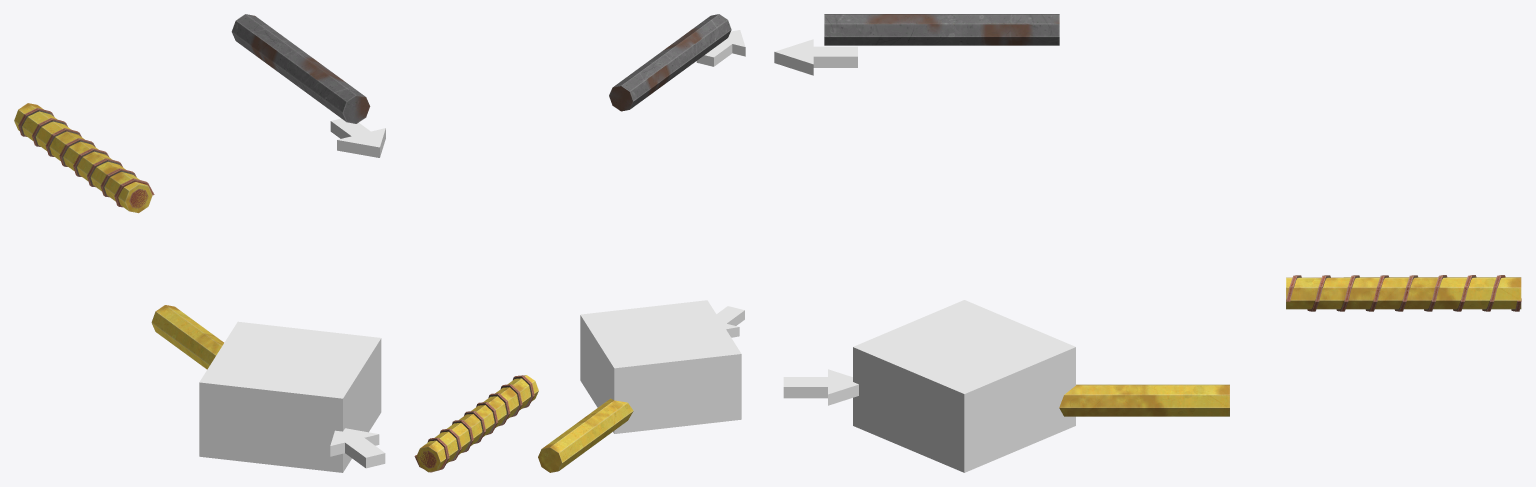
The model's file is ThreadingLathe.glb.
3 renders of one model, left to right at view 1: azimuth 30°, elevation 25°; view 2: azimuth 150°, elevation 25°; view 3: azimuth 270°, elevation 25°, orthographic. The views are drawn at different scales.
Visible parts, largest first — view 1: MachineTrigger, IronRod, WholePart, RodRenderer, spinningparent, ghostarrow, ghostarrow (1); view 2: MachineTrigger, IronRod, WholePart, RodRenderer, spinningparent, ghostarrow (1), ghostarrow; view 3: MachineTrigger, IronRod, WholePart, RodRenderer, ghostarrow (1), ghostarrow, spinningparent.
Part boxes in pixels (box(x1,y1,x2,y2)): MachineTrigger: box(199, 321, 381, 472); IronRod: box(231, 14, 370, 123); WholePart: box(14, 103, 152, 213); RodRenderer: box(151, 305, 223, 369); spinningparent: box(18, 108, 154, 208); ghostarrow: box(330, 428, 385, 468); ghostarrow (1): box(330, 118, 385, 157); MachineTrigger: box(580, 300, 741, 433); IronRod: box(609, 14, 731, 111); WholePart: box(416, 375, 538, 472); RodRenderer: box(538, 398, 633, 472); spinningparent: box(414, 375, 534, 472); ghostarrow (1): box(696, 30, 745, 66); ghostarrow: box(716, 306, 744, 337); MachineTrigger: box(853, 300, 1075, 472); IronRod: box(824, 14, 1059, 45); WholePart: box(1286, 277, 1521, 309); RodRenderer: box(1059, 384, 1229, 416); ghostarrow (1): box(774, 39, 857, 75); ghostarrow: box(783, 369, 858, 405); spinningparent: box(1286, 275, 1521, 311).
Size of what is drawn, in the model's own units: 0.7663 by 1.56 by 2.56.
5 materials, 3 textured.
